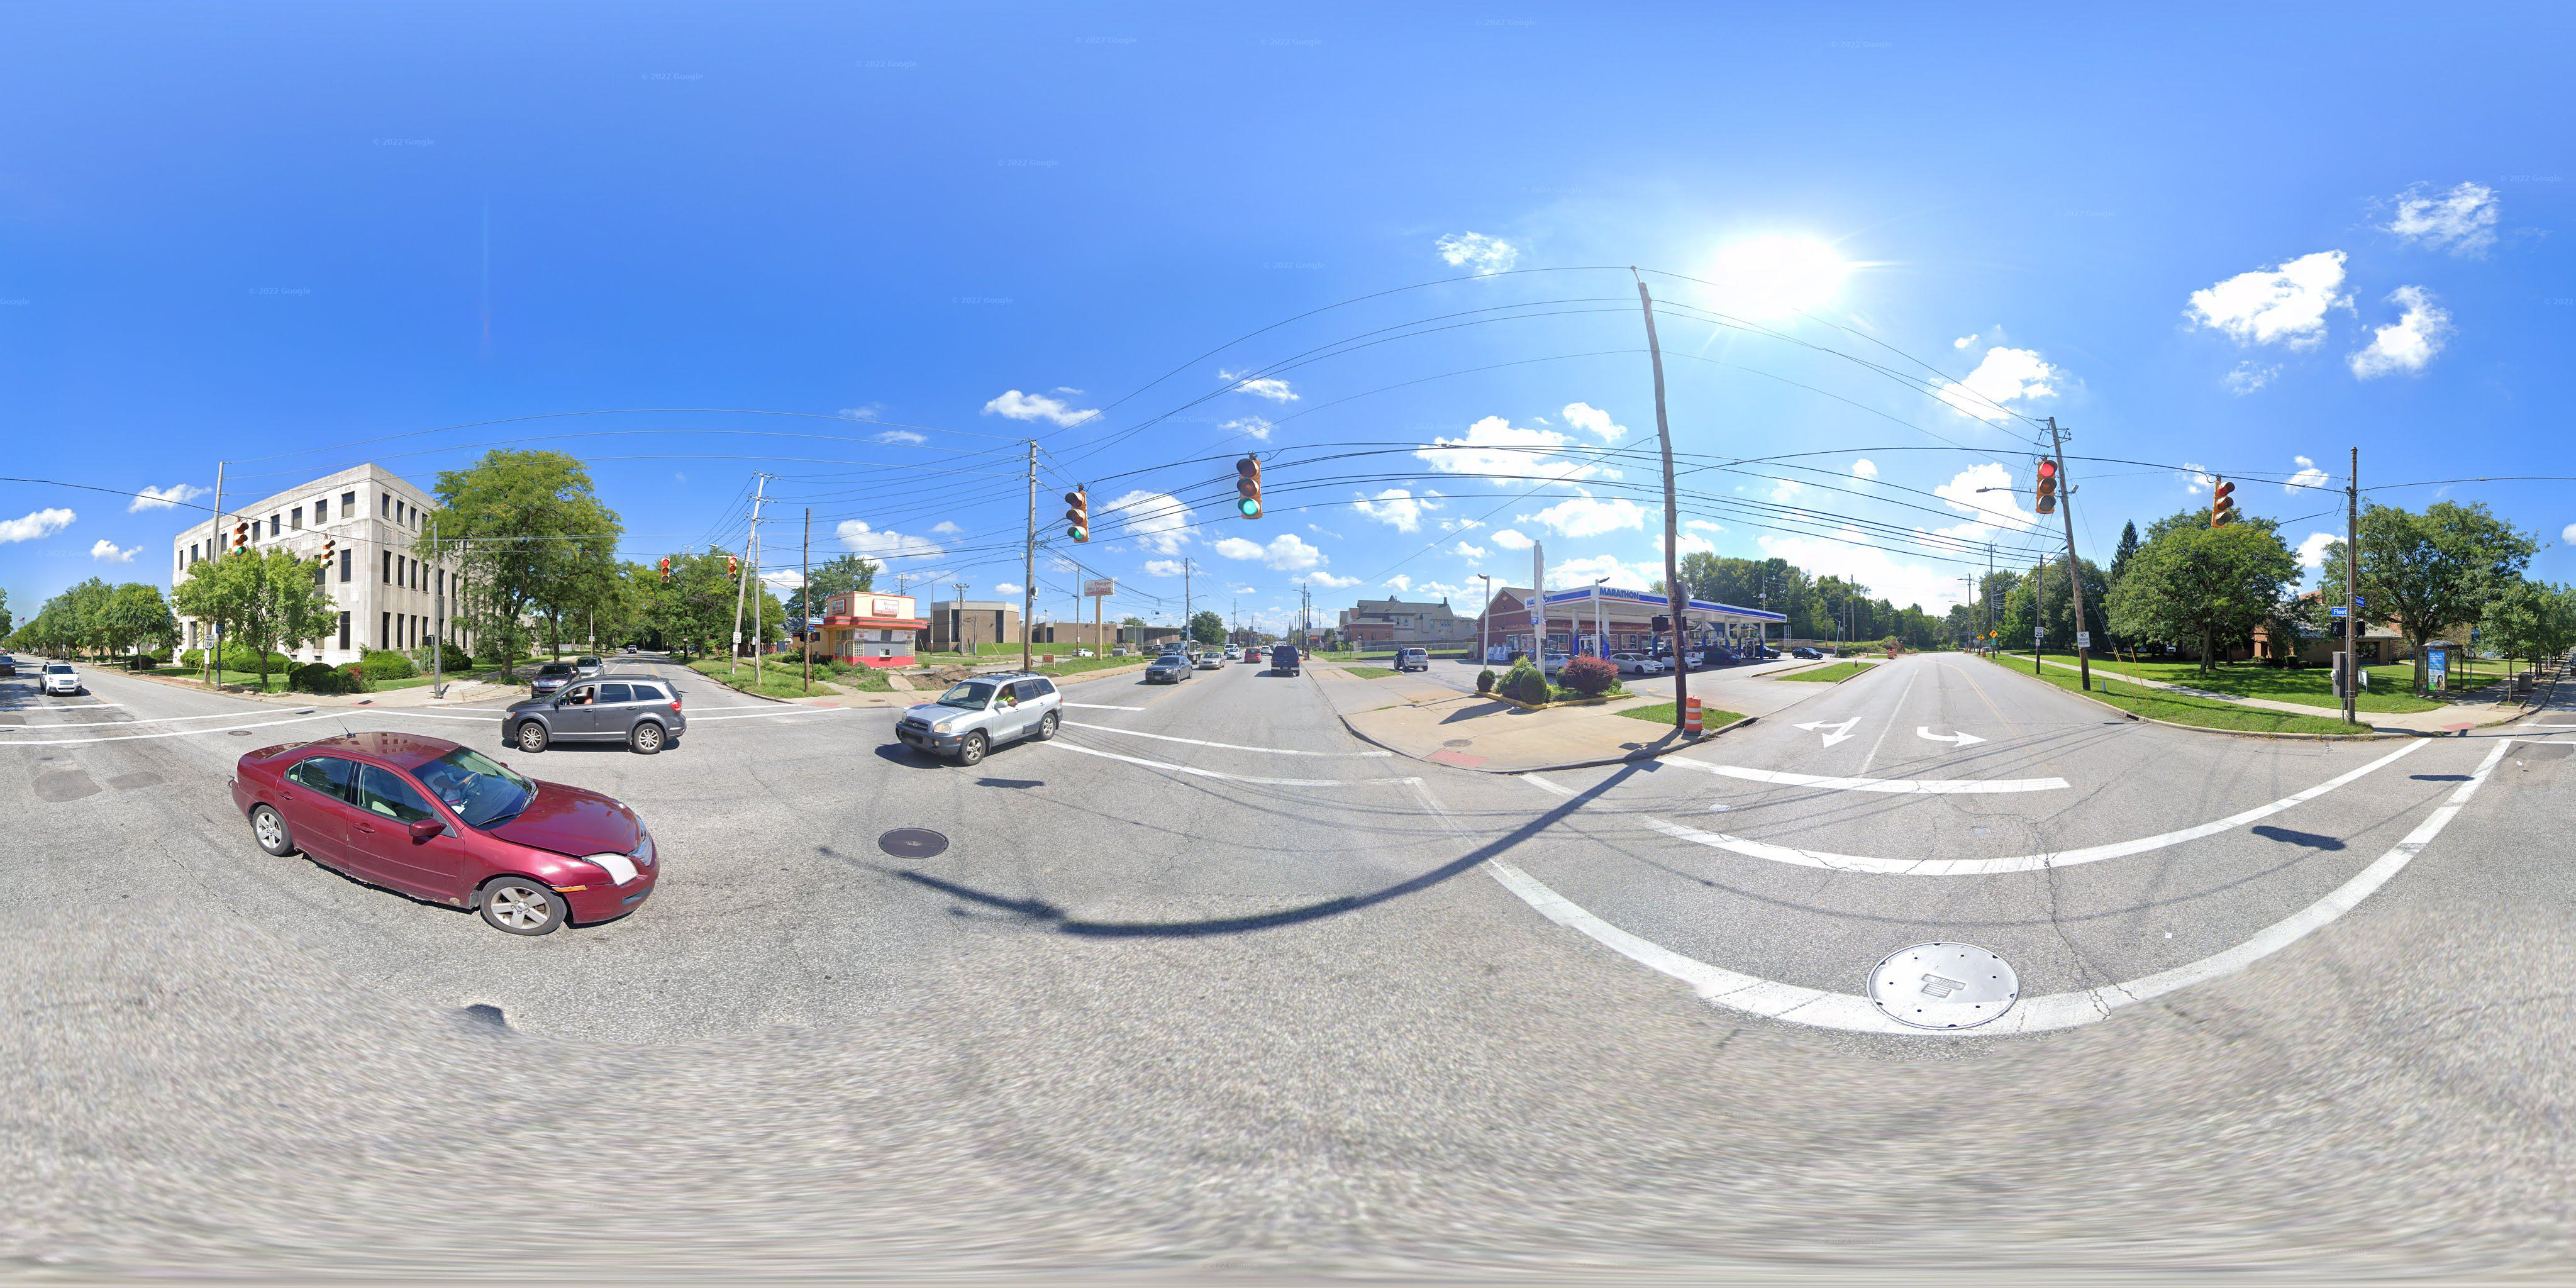Curb Ramp: (1391, 728, 1518, 802), (2412, 713, 2487, 741), (327, 693, 399, 713), (793, 693, 849, 713), (895, 690, 930, 708)
